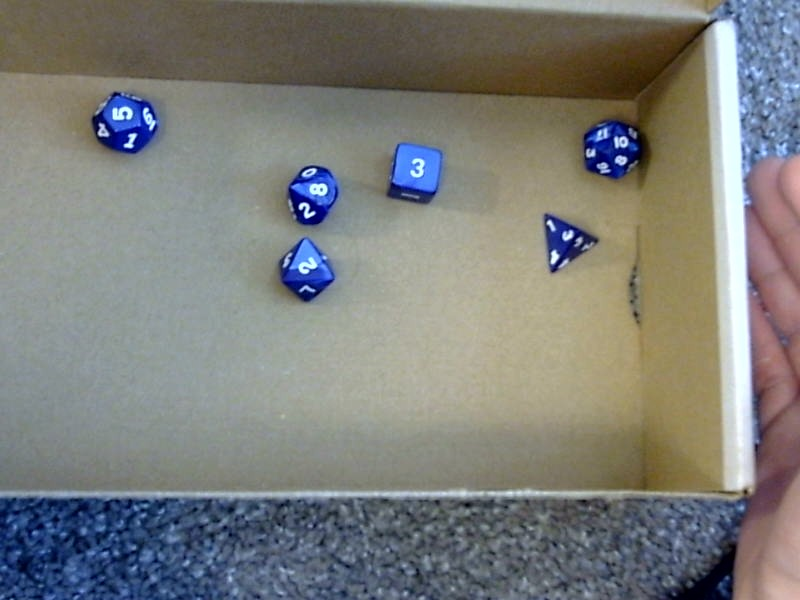d10 8: (278, 163, 340, 226)
d12 5: (90, 86, 160, 157)
d20 10: (578, 115, 645, 183)
d4 3: (537, 209, 600, 277)
d6 3: (382, 138, 444, 209)
d8 2: (268, 239, 335, 302)
